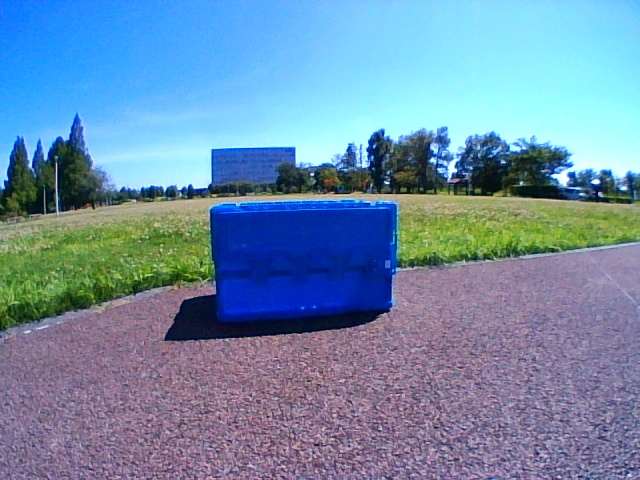blue_box: (209, 199, 396, 322)
